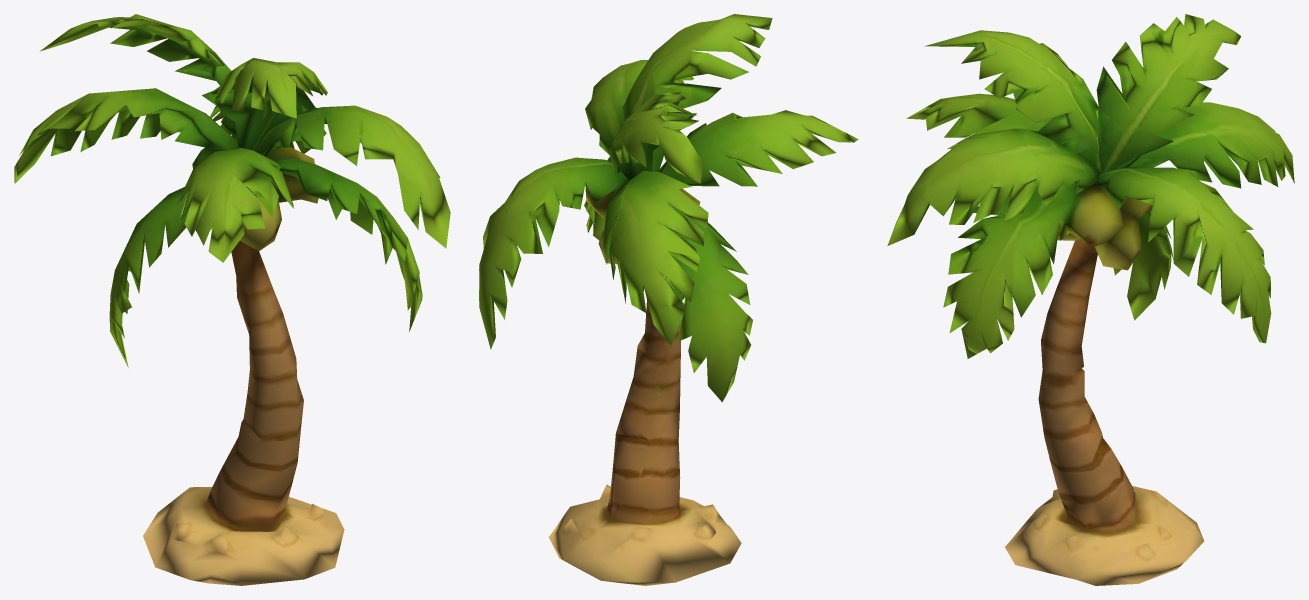
Rendered from palm.glb.
3 renders of one model, left to right at view 1: azimuth 30°, elevation 25°; view 2: azimuth 150°, elevation 25°; view 3: azimuth 270°, elevation 25°, orthographic. The views are drawn at different scales.
Visible parts, largest first — view 1: tripo_node_b18113ad-44de-4083-9772-cd2ff0a89345; view 2: tripo_node_b18113ad-44de-4083-9772-cd2ff0a89345; view 3: tripo_node_b18113ad-44de-4083-9772-cd2ff0a89345.
Boxes of the visible parts, <box> form: tripo_node_b18113ad-44de-4083-9772-cd2ff0a89345: <box>14,14,450,585</box>; tripo_node_b18113ad-44de-4083-9772-cd2ff0a89345: <box>479,14,858,585</box>; tripo_node_b18113ad-44de-4083-9772-cd2ff0a89345: <box>887,14,1294,585</box>.
Size of the model in its own units: 0.5219 by 0.9999 by 0.7413.
1 material, 1 textured.
